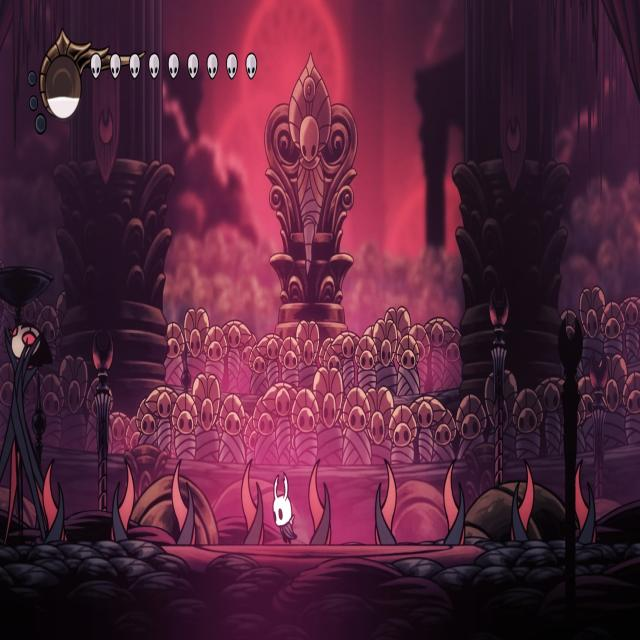Grimm: (0, 318, 56, 546)
Player: (268, 468, 299, 546)
Spikes: (40, 460, 66, 542), (171, 462, 195, 544), (241, 460, 264, 544), (111, 464, 135, 542), (309, 460, 331, 544), (511, 462, 534, 540), (375, 460, 396, 544), (575, 460, 596, 544), (444, 462, 465, 544)
